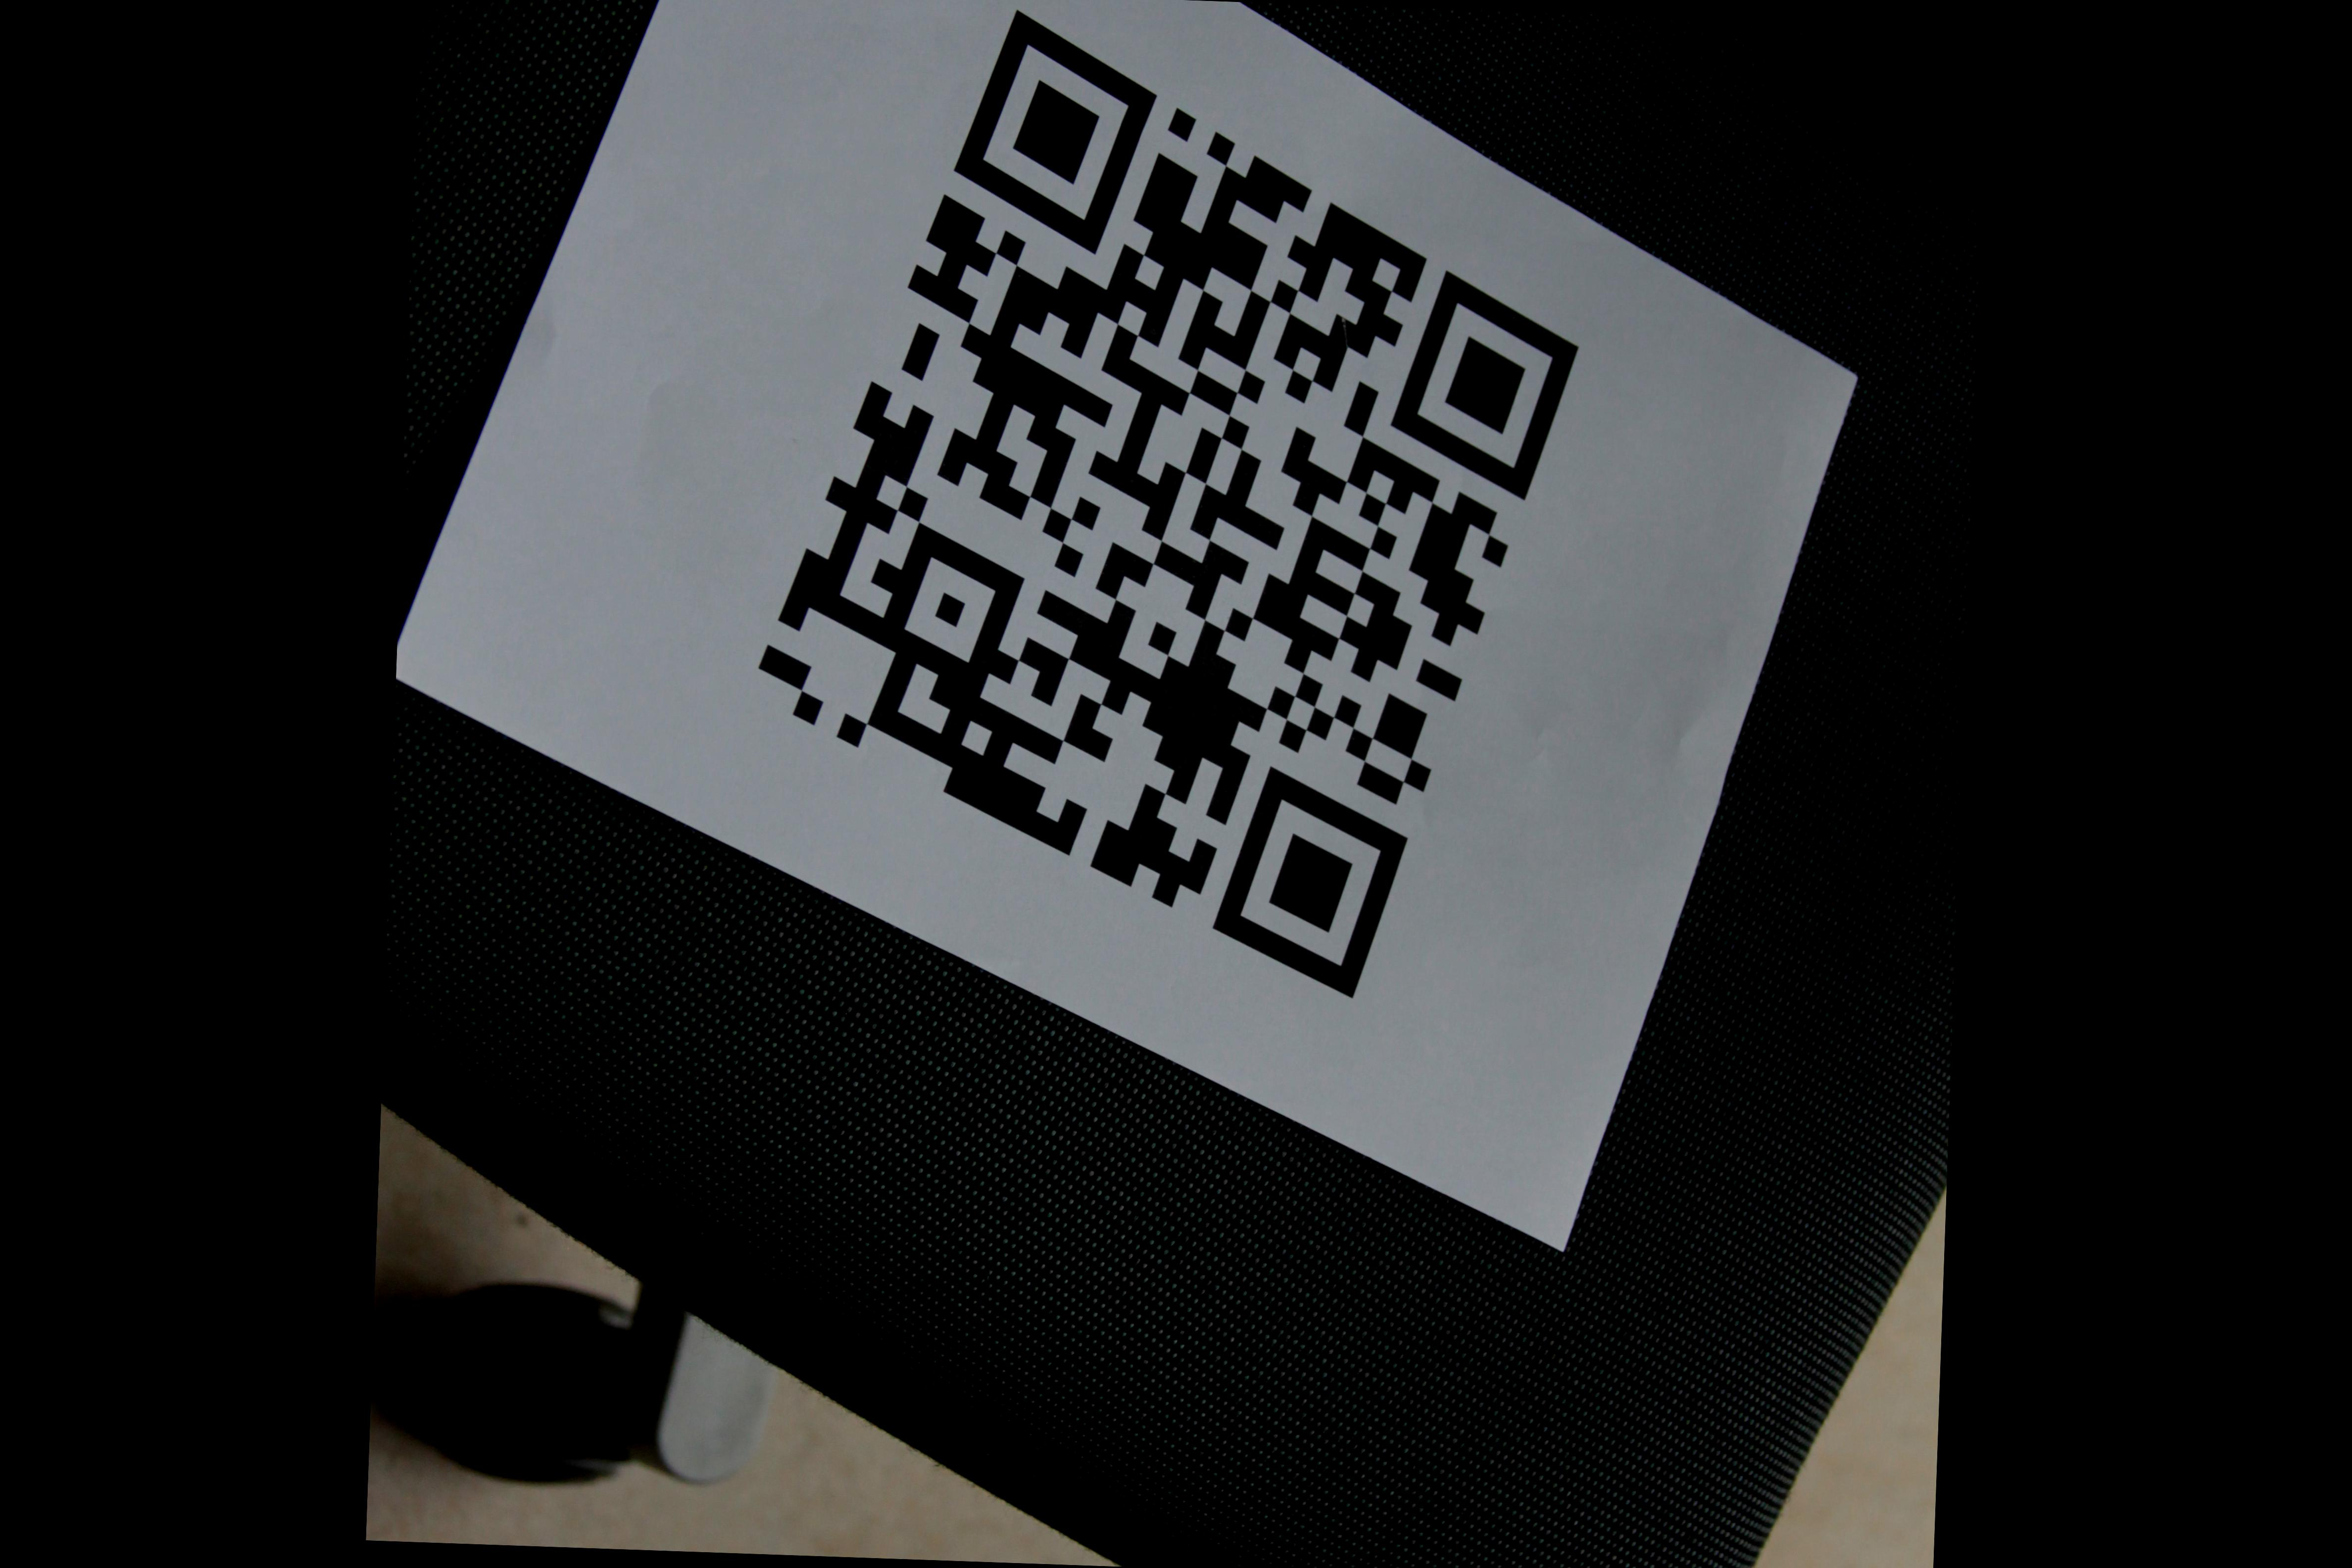QR: (742, 3, 1582, 1010)
